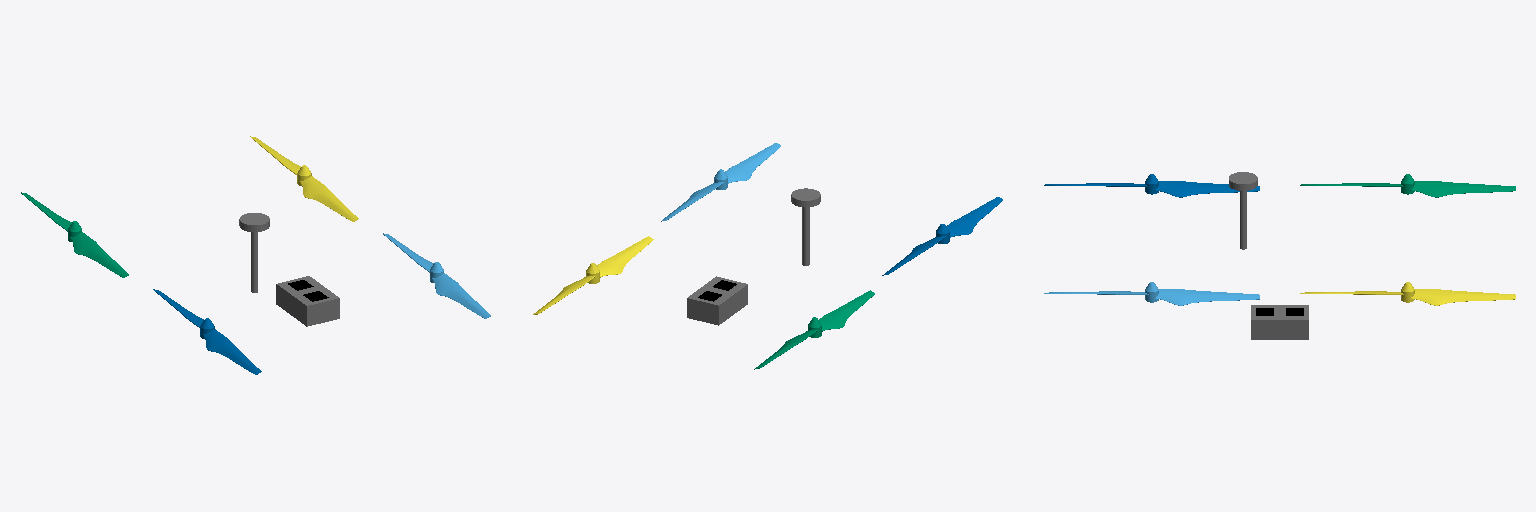
The robot description file, URDF, robot "holybro":
<?xml version="1.0"?>
<robot name="holybro">

  <!-- Base Link -->
  <link name="base_link">
    <visual>
      <geometry>
        <mesh filename="package://holybro_model/meshes/NXP-HGD-CF.dae" scale="1 1 1"/>
      </geometry>
    </visual>
  </link>

  <!-- Base Links -->
  <link name="base_0_link">
    <visual>
      <geometry>
        <mesh filename="package://holybro_model/meshes/5010Base.dae" scale="0.846 0.846 0.846"/>
      </geometry>
    </visual>
  </link>
  
  <link name="base_1_link">
    <visual>
      <geometry>
        <mesh filename="package://holybro_model/meshes/5010Base.dae" scale="0.846 0.846 0.846"/>
      </geometry>
    </visual>
  </link>

  <link name="base_2_link">
    <visual>
      <geometry>
        <mesh filename="package://holybro_model/meshes/5010Base.dae" scale="0.846 0.846 0.846"/>
      </geometry>
    </visual>
  </link>
  
  <link name="base_3_link">
    <visual>
      <geometry>
        <mesh filename="package://holybro_model/meshes/5010Base.dae" scale="0.846 0.846 0.846"/>
      </geometry>
    </visual>
  </link>
  
  <!-- Bell Links -->
  <link name="bell_0_link">
    <visual>
      <geometry>
        <mesh filename="package://holybro_model/meshes/5010Bell.dae" scale="0.846 0.846 0.846"/>
      </geometry>
    </visual>
  </link>
  
  <link name="bell_1_link">
    <visual>
      <geometry>
        <mesh filename="package://holybro_model/meshes/5010Bell.dae" scale="0.846 0.846 0.846"/>
      </geometry>
    </visual>
  </link>

  <link name="bell_2_link">
    <visual>
      <geometry>
        <mesh filename="package://holybro_model/meshes/5010Bell.dae" scale="0.846 0.846 0.846"/>
      </geometry>
    </visual>
  </link>
  
  <link name="bell_3_link">
    <visual>
      <geometry>
        <mesh filename="package://holybro_model/meshes/5010Bell.dae" scale="0.846 0.846 0.846"/>
      </geometry>
    </visual>
  </link>
  
  <!-- Rotor Links -->
  <link name="rotor_0_link">
    <visual>
      <geometry>
        <mesh filename="package://holybro_model/meshes/1345_prop_ccw_center.stl" scale="0.846 0.846 0.846"/>
      </geometry>
    </visual>
  </link>
  
  <link name="rotor_1_link">
    <visual>
      <geometry>
        <mesh filename="package://holybro_model/meshes/1345_prop_ccw_center.stl" scale="0.846 0.846 0.846"/>
      </geometry>
    </visual>
  </link>

  <link name="rotor_2_link">
    <visual>
      <geometry>
        <mesh filename="package://holybro_model/meshes/1345_prop_ccw_center.stl" scale="0.846 0.846 0.846"/>
      </geometry>
    </visual>
  </link>
  
  <link name="rotor_3_link">
    <visual>
      <geometry>
        <mesh filename="package://holybro_model/meshes/1345_prop_ccw_center.stl" scale="0.846 0.846 0.846"/>
      </geometry>
    </visual>
  </link>
  
  <!-- IMU Link -->
  <link name="imu_link"/>

  <!-- GPS Base Link -->
  <link name="gps_base_link">
    <visual>
      <origin xyz="0.0 0.0 0.05" rpy="0 0 0"/>
      <geometry>
        <cylinder length="0.1" radius="0.005"/>
      </geometry>
      <material name="grey">
        <color rgba="0.5 0.5 0.5 1"/>
      </material>
    </visual>
  </link>
  
  <!-- GPS Link -->
  <link name="gps_link">
    <visual>
      <geometry>
        <cylinder length="0.01" radius="0.02"/>
      </geometry>
      <material name="grey">
        <color rgba="0.5 0.5 0.5 1"/>
      </material>
    </visual>
  </link>
  
  <!-- Lidar Links -->
  <link name="lidar_link">
    <visual>
      <geometry>
        <box size="0.05 0.08 0.03" />
      </geometry>
      <material name="gray">
        <color rgba="0.5 0.5 0.5 1.0"/>
      </material>
    </visual>
  </link>

  <link name="lidar_base_link"/>
  <link name="livox_frame"/>
  
  <!-- Left Lens Visual (small square on the left) -->
  <link name="lidar_left_lens_link">
    <visual>
      <geometry>
        <box size="0.025 0.025 0.03" /> <!-- Small square 1.5x1.5cm -->
      </geometry>
      <material name="black">
        <color rgba="0 0 0 1.0"/>
      </material>
    </visual>
  </link>

  <!-- Right Lens Visual (small square on the right) -->
  <link name="lidar_right_lens_link">
    <visual>
      <geometry>
        <box size="0.025 0.025 0.03" /> <!-- Small square 1.5x1.5cm -->
      </geometry>
      <material name="black">
        <color rgba="0 0 0 1.0"/>
      </material>
    </visual>
  </link>
  
  <!-- Base Joints -->
  <joint name="base_0_joint" type="fixed">
    <parent link="base_link"/>
    <child link="base_0_link"/>
    <origin xyz="0.174 -0.174 0.00" rpy="0 0 0"/>
  </joint>

  <joint name="base_1_joint" type="fixed">
    <parent link="base_link"/>
    <child link="base_1_link"/>
    <origin xyz="-0.174 0.174 0.00" rpy="0 0 0"/>
  </joint>

  <joint name="base_2_joint" type="fixed">
    <parent link="base_link"/>
    <child link="base_2_link"/>
    <origin xyz="0.174 0.174 0.00" rpy="0 0 0"/>
  </joint>

  <joint name="base_3_joint" type="fixed">
    <parent link="base_link"/>
    <child link="base_3_link"/>
    <origin xyz="-0.174 -0.174 0.00" rpy="0 0 0"/>
    <axis xyz="0 0 1"/>
  </joint>
  
  <!-- Bell Joints -->
  <joint name="bell_0_joint" type="fixed">
    <parent link="base_0_link"/>
    <child link="bell_0_link"/>
    <origin xyz="0.00 0.00 0.00" rpy="0 0 0"/>
  </joint>

  <joint name="bell_1_joint" type="fixed">
    <parent link="base_1_link"/>
    <child link="bell_1_link"/>
    <origin xyz="0.00 0.00 0.00" rpy="0 0 0"/>
  </joint>

  <joint name="bell_2_joint" type="fixed">
    <parent link="base_2_link"/>
    <child link="bell_2_link"/>
    <origin xyz="0.00 0.00 0.00" rpy="0 0 0"/>
  </joint>

  <joint name="bell_3_joint" type="fixed">
    <parent link="base_3_link"/>
    <child link="bell_3_link"/>
    <origin xyz="0.00 0.00 0.00" rpy="0 0 0"/>
  </joint>
  
  <!-- Rotor Joints -->
  <joint name="rotor_0_joint" type="continuous">
    <parent link="bell_0_link"/>
    <child link="rotor_0_link"/>
    <origin xyz="0.00 0.00 0.018" rpy="0 0 0"/>
    <axis xyz="0 0 1"/>
  </joint>

  <joint name="rotor_1_joint" type="continuous">
    <parent link="bell_1_link"/>
    <child link="rotor_1_link"/>
    <origin xyz="0.00 0.00 0.018" rpy="0 0 0"/>
    <axis xyz="0 0 1"/>
  </joint>

  <joint name="rotor_2_joint" type="continuous">
    <parent link="bell_2_link"/>
    <child link="rotor_2_link"/>
    <origin xyz="0.00 0.00 0.018" rpy="0 0 0"/>
    <axis xyz="0 0 1"/>
  </joint>

  <joint name="rotor_3_joint" type="continuous">
    <parent link="bell_3_link"/>
    <child link="rotor_3_link"/>
    <origin xyz="0.00 0.00 0.018" rpy="0 0 0"/>
    <axis xyz="0 0 1"/>
  </joint>

  <!-- Imu Joints -->
  <joint name="imu_joint" type="fixed">
    <parent link="base_link"/>
    <child link="imu_link"/>
    <origin xyz="0.00 0.00 0.02" rpy="0 0 0"/>
  </joint>
  
  <!-- GPS Base Joints -->
  <joint name="gps_base_joint" type="fixed">
    <parent link="base_link"/>
    <child link="gps_base_link"/>
    <origin xyz="-0.03 -0.05 0.00" rpy="0 0 0"/>
  </joint>
  
  <!-- GPS  Joints -->
  <joint name="gps_joint" type="fixed">
    <parent link="gps_base_link"/>
    <child link="gps_link"/>
    <origin xyz="0.00 0.00 0.1" rpy="0 0 0"/>
  </joint>
  
  <!-- Lidar Joints -->
  <!-- Joint for the left lens -->
  <joint name="lidar_left_lens_joint" type="fixed">
    <parent link="lidar_link"/>
    <child link="lidar_left_lens_link"/>
    <origin xyz="0 0.02 0.0005" rpy="0 0 0"/> <!-- Left position at -0.75 relative to the width -->
  </joint>

  <!-- Joint for the right lens -->
  <joint name="lidar_right_lens_joint" type="fixed">
    <parent link="lidar_link"/>
    <child link="lidar_right_lens_link"/>
    <origin xyz="0 -0.02 0.0005" rpy="0 0 0"/> <!-- Right position at +0.75 relative to the width -->
  </joint>

  <!-- Joint for static transform between base and sensor -->
  <joint name="lidar_base_joint_trans" type="fixed">
    <parent link="base_link"/>
    <child link="lidar_base_link"/>
    <origin xyz="0.08 0.0 -0.06" rpy="0 0 0"/>
  </joint>

  <!-- Joint for static transform between base and sensor -->
  <joint name="lidar_base_joint_rot" type="fixed">
    <parent link="lidar_base_link"/>
    <child link="lidar_link"/>
    <origin xyz="0.0 0.0 0.0" rpy="0 0 0"/>
  </joint>

    <!-- Joint for static transform between base and sensor -->
  <joint name="livox_frame_joint" type="fixed">
    <parent link="lidar_link"/>
    <child link="livox_frame"/>
    <origin xyz="0.0 0.0 0.0" rpy="0.0 0.0 0.0"/>
  </joint>
  
</robot>

--- Render facts (derived) ---
The picture shows the robot from 3 angles, left to right: view 1: azimuth 30°, elevation 25°; view 2: azimuth 150°, elevation 25°; view 3: azimuth 270°, elevation 25°; orthographic projection.
Robot: holybro — 21 links, 20 joints (4 continuous, 16 fixed); root link base_link; default pose: every joint at zero.
Visible links, largest first — view 1: lidar_link, rotor_2_link, rotor_3_link, rotor_0_link, rotor_1_link; view 2: lidar_link, rotor_2_link, rotor_1_link, rotor_0_link, rotor_3_link; view 3: lidar_link, rotor_1_link, rotor_0_link, rotor_2_link, rotor_3_link.
Boxes of the visible links, left/top/right/bottom form: lidar_link: left=276, top=276, right=339, bottom=326; rotor_2_link: left=250, top=136, right=358, bottom=221; rotor_3_link: left=153, top=289, right=261, bottom=374; rotor_0_link: left=383, top=233, right=490, bottom=318; rotor_1_link: left=21, top=192, right=128, bottom=277; lidar_link: left=687, top=276, right=747, bottom=325; rotor_2_link: left=533, top=236, right=653, bottom=314; rotor_1_link: left=754, top=290, right=874, bottom=369; rotor_0_link: left=661, top=143, right=780, bottom=221; rotor_3_link: left=882, top=197, right=1002, bottom=275; lidar_link: left=1251, top=305, right=1308, bottom=339; rotor_1_link: left=1300, top=174, right=1515, bottom=197; rotor_0_link: left=1044, top=282, right=1259, bottom=305; rotor_2_link: left=1300, top=282, right=1515, bottom=305; rotor_3_link: left=1044, top=174, right=1259, bottom=197.
Bounding box of the posed robot: 0.392 × 0.6407 × 0.18 m (x, y, z).
4 mesh visuals loaded from 4 distinct referenced files (1 binary STL); not drawn: 9 (reference not matched to a file when rendering).
